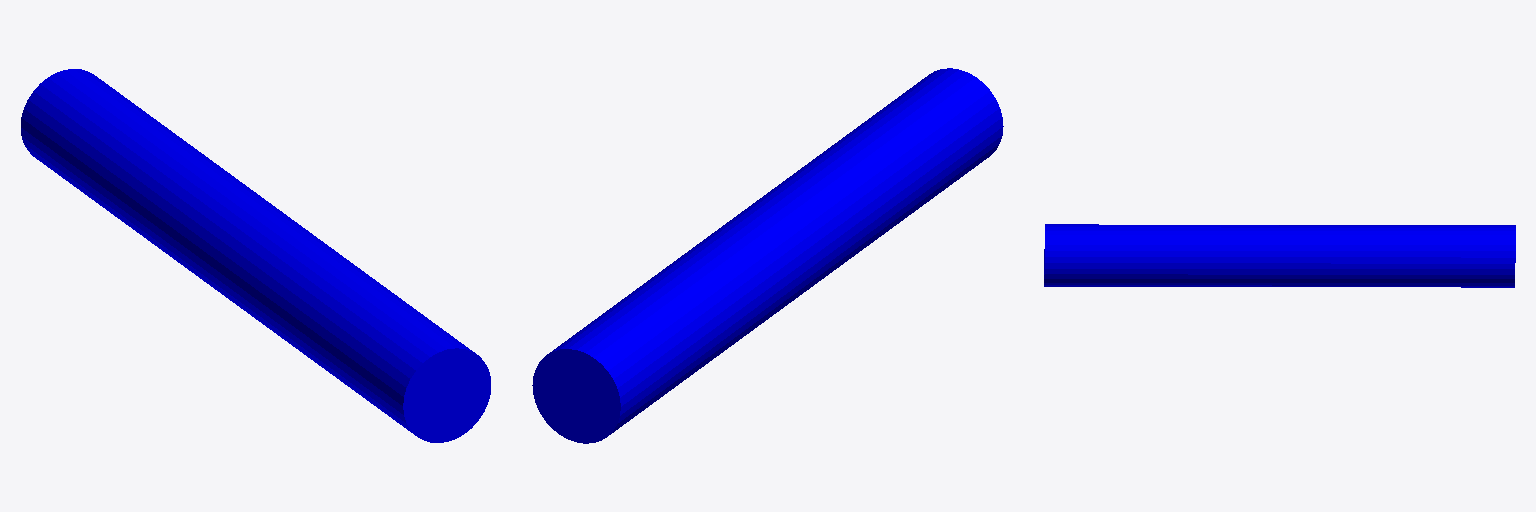
URDF robot description (ur5):
<robot name="ur5" xmlns:controller="http://playerstage.sourceforge.net/gazebo/xmlschema/#controller" xmlns:interface="http://playerstage.sourceforge.net/gazebo/xmlschema/#interface" xmlns:sensor="http://playerstage.sourceforge.net/gazebo/xmlschema/#sensor" xmlns:xacro="http://ros.org/wiki/xacro">
  <material name="UR/Blue">
    <color rgba="0.0 0.0 0.8 1.0"/>
  </material>
  <material name="UR/Grey">
    <color rgba="0.7 0.7 0.7 1.0"/>
  </material>
  <!-- arm -->
    <!-- World link to fix basin -->
  <link name="world"/>
  <link name="base_link">
    <visual>
      <geometry>
        <mesh filename="package://ur5_description/meshes/ur5/visual/Base.dae"/>
      </geometry>
      <origin rpy="0.0 0.0 2.3561944875" xyz="0.0 0.0 0.003"/>
    </visual>
    <collision>
      <geometry>
        <mesh filename="package://ur5_description/meshes/ur5/collision/Base.dae"/>
      </geometry>
      <!-- <origin rpy="0.0 0.0 0.0" xyz="0.0 0.0 -0.009159"/> -->
    </collision>
    <inertial>
      <mass value="4.0"/>
      <inertia ixx="1.0" ixy="0.0" ixz="0.0" iyy="1.0" iyz="0.0" izz="1.0"/>
    </inertial>
  </link>
  

  <joint name="virtual_joint" type="fixed">
  <parent link="world"/>
  <child link="base_link"/>
</joint>


  <joint name="shoulder_pan_joint" type="revolute">
    <parent link="base_link"/>
    <child link="shoulder_link"/>
    <origin rpy="0.0 0.0 0.0" xyz="0.0 0.0 0.089159"/>
    <axis xyz="0 0 1"/>
    <limit effort="10.0" lower="-3.14159265" upper="3.14159265" velocity="3.14159265"/>
    <dynamics damping="10" friction="0.1"/>
  </joint>
  <link name="shoulder_link">
    <visual>
      <geometry>
        <mesh filename="package://ur5_description/meshes/ur5/visual/Shoulder.dae"/>
      </geometry>
    </visual>
    <collision>
      <geometry>
        <mesh filename="package://ur5_description/meshes/ur5/collision/Shoulder.dae"/>
      </geometry>
      <!-- <origin rpy="0.0 0.0 0.0" xyz="0.0 0.0 -0.009159"/> -->
    </collision>
    <inertial>
      <mass value="3.7"/>
      <inertia ixx="1.0" ixy="0.0" ixz="0.0" iyy="1.0" iyz="0.0" izz="1.0"/>
      <origin rpy="0.0 0.0 0.0" xyz="0.0 0.00193 -0.02561"/>
    </inertial>
  </link>
  <joint name="shoulder_lift_joint" type="revolute">
    <parent link="shoulder_link"/>
    <child link="upper_arm_link"/>
    <origin rpy="0.0 1.570796325 0.0" xyz="0.0 0.13585 0.0"/>
    <axis xyz="0 1 0"/>
    <limit effort="10.0" lower="-3.14159265" upper="3.14159265" velocity="3.14159265"/>
    <dynamics damping="10" friction="0.1"/>
  </joint>
  <link name="upper_arm_link">
    <visual>
      <geometry>
        <mesh filename="package://ur5_description/meshes/ur5/visual/UpperArm.dae"/>
      </geometry>
      <origin rpy="0.0 0.0 0.0" xyz="0.0 0.0 0.0"/>
    </visual>
    <collision>
      <geometry>
        <mesh filename="package://ur5_description/meshes/ur5/collision/UpperArm.dae"/>
      </geometry>
      <!--       <origin rpy="0.0 0.0 0.0" xyz="0.0 0.0 0.2125"/> -->
    </collision>
    <inertial>
      <mass value="8.393"/>
      <inertia ixx="1.0" ixy="0.0" ixz="0.0" iyy="1.0" iyz="0.0" izz="1.0"/>
      <origin rpy="0.0 0.0 0.0" xyz="0.0 -0.024201 0.2125"/>
    </inertial>
  </link>
  <joint name="elbow_joint" type="revolute">
    <parent link="upper_arm_link"/>
    <child link="forearm_link"/>
    <origin rpy="0.0 0.0 0.0" xyz="0.0 -0.1197 0.425"/>
    <axis xyz="0 1 0"/>
    <limit effort="10.0" lower="-3.14159265" upper="3.14159265" velocity="3.14159265"/>
    <dynamics damping="10" friction="0.1"/>
  </joint>
  <link name="forearm_link">
    <visual>
      <geometry>
        <mesh filename="package://ur5_description/meshes/ur5/visual/Forearm.dae"/>
      </geometry>
    </visual>
    <collision>
      <geometry>
        <mesh filename="package://ur5_description/meshes/ur5/collision/Forearm.dae"/>
      </geometry>
      <!--       <origin rpy="0.0 0.0 0.0" xyz="0.0 0.0 0.196125"/> -->
    </collision>
    <inertial>
      <mass value="2.275"/>
      <origin rpy="0.0 0.0 0.0" xyz="0.0 0.0265 0.11993"/>
      <inertia ixx="1.0" ixy="0.0" ixz="0.0" iyy="1.0" iyz="0.0" izz="1.0"/>
    </inertial>
  </link>
  <joint name="wrist_1_joint" type="revolute">
    <parent link="forearm_link"/>
    <child link="wrist_1_link"/>
    <origin rpy="0.0 1.570796325 0.0" xyz="0.0 0.0 0.39225"/>
    <axis xyz="0 1 0"/>
    <limit effort="10.0" lower="-3.14159265" upper="0.7853981625" velocity="3.14159265"/>
    <dynamics damping="10" friction="0.1"/>
  </joint>
  <link name="wrist_1_link">
    <visual>
      <geometry>
        <mesh filename="package://ur5_description/meshes/ur5/visual/Wrist1.dae"/>
      </geometry>
      <origin rpy="0.0 1.570796325 0.0" xyz="0.0 0.093 0.0"/>
    </visual>
    <collision>
      <geometry>
        <mesh filename="package://ur5_description/meshes/ur5/collision/Wrist1.dae"/>
      </geometry>
      <origin rpy="0.0 1.570796325 0.0" xyz="0.0 0.093 0.0"/>
    </collision>
    <inertial>
      <mass value="1.219"/>
      <origin rpy="0.0 0.0 0.0" xyz="0.0 0.110949 0.01634"/>
      <inertia ixx="1.0" ixy="0.0" ixz="0.0" iyy="1.0" iyz="0.0" izz="1.0"/>
    </inertial>
  </link>
  <joint name="wrist_2_joint" type="revolute">
    <parent link="wrist_1_link"/>
    <child link="wrist_2_link"/>
    <origin rpy="0.0 0.0 0.0" xyz="0.0 0.093 0.0"/>
    <axis xyz="0 0 1"/>
    <limit effort="10.0" lower="-3.14159265" upper="3.14159265" velocity="3.14159265"/>
    <dynamics damping="10" friction="0.1"/>
  </joint>
  <link name="wrist_2_link">
    <visual>
      <geometry>
        <mesh filename="package://ur5_description/meshes/ur5/visual/Wrist2.dae"/>
      </geometry>
      <origin rpy="0.0 0.0 0.0" xyz="0.0 0.0 0.09465"/>
    </visual>
    <collision>
      <geometry>
        <mesh filename="package://ur5_description/meshes/ur5/collision/Wrist2.dae"/>
      </geometry>
      <origin rpy="0.0 0.0 0.0" xyz="0.0 0.0 0.09465"/>
    </collision>
    <inertial>
      <mass value="1.219"/>
      <origin rpy="0.0 0.0 0.0" xyz="0.0 0.0018 0.11099"/>
      <inertia ixx="1.0" ixy="0.0" ixz="0.0" iyy="1.0" iyz="0.0" izz="1.0"/>
    </inertial>
  </link>
  <joint name="wrist_3_joint" type="revolute">
    <parent link="wrist_2_link"/>
    <child link="wrist_3_link"/>
    <origin rpy="0.0 0.0 0.0" xyz="0.0 0.0 0.09465"/>
    <axis xyz="0 1 0"/>
    <limit effort="10.0" lower="-3.14159265" upper="3.14159265" velocity="3.14159265"/>
    <dynamics damping="10" friction="0.1"/>
  </joint>
  <link name="wrist_3_link">
    <visual>
      <geometry>
        <mesh filename="package://ur5_description/meshes/ur5/visual/Wrist3.dae"/>
      </geometry>
    </visual>
    <collision>
      <geometry>
        <mesh filename="package://ur5_description/meshes/ur5/collision/Wrist3.dae"/>
      </geometry>
    </collision>
    <inertial>
      <mass value="0.1879"/>
      <origin rpy="0.0 0.0 0.0" xyz="0.0 0.001159 0.0"/>
      <inertia ixx="1.0" ixy="0.0" ixz="0.0" iyy="1.0" iyz="0.0" izz="1.0"/>
    </inertial>
  </link>
  <joint name="ee_fixed_joint" type="fixed">
    <parent link="wrist_3_link"/>
    <child link="ee_link"/>
    <origin rpy="0.0 0.0 1.570796325" xyz="0.0 0.0823 0.0"/>
  </joint>
  <link name="ee_link"/>

  <link name="brush_link">
    <visual>
      <geometry>
        <cylinder length="0.3" radius="0.02"/>
      </geometry>
      <origin xyz="0 0 0.15" rpy="0 0 0"/> <!-- move +0.15 along Z -->
      <material name="blue">
        <color rgba="0 0 1 1"/>
      </material>
    </visual>
    <collision>
      <geometry>
        <cylinder length="0.1" radius="0.02"/>
      </geometry>
    </collision>
    <inertial>
      <mass value="0.1"/>
      <inertia ixx="0.0001" ixy="0" ixz="0" iyy="0.0001" iyz="0" izz="0.0001"/>
      <origin xyz="0 0 0.05" rpy="0 0 0"/>
    </inertial>
  </link>

    <!-- Fixed joint to attach to robot's end-effector -->
  <joint name="brush_joint" type="fixed">
    <parent link="ee_link"/> <!-- Replace ee_link with your robot's end-effector link -->
    <child link="brush_link"/>
    <origin xyz="0 0 0.0" rpy="0 1.57 0"/>
  </joint>

</robot>

--- What the picture shows (computed from the rendered views, not written in the file) ---
3 views of the same robot in one strip: view 1: azimuth 30°, elevation 25°; view 2: azimuth 150°, elevation 25°; view 3: azimuth 270°, elevation 25° (orthographic).
Model ur5 with 10 links and 9 joints (6 revolute, 3 fixed), rooted at world, posed all joints at 0.
Visible links, largest first — view 1: brush_link; view 2: brush_link; view 3: brush_link.
Boxes of the visible links, x1,y1,x2,y2 form: brush_link: [21, 69, 490, 442]; brush_link: [532, 68, 1003, 443]; brush_link: [1044, 224, 1515, 287].
Size in the robot's own frame: 0.04 by 0.3 by 0.0402 metres.
Meshes: 7 distinct files referenced, 0 mesh visuals loaded (none loaded); not drawn: 7 (reference not matched to a file when rendering).